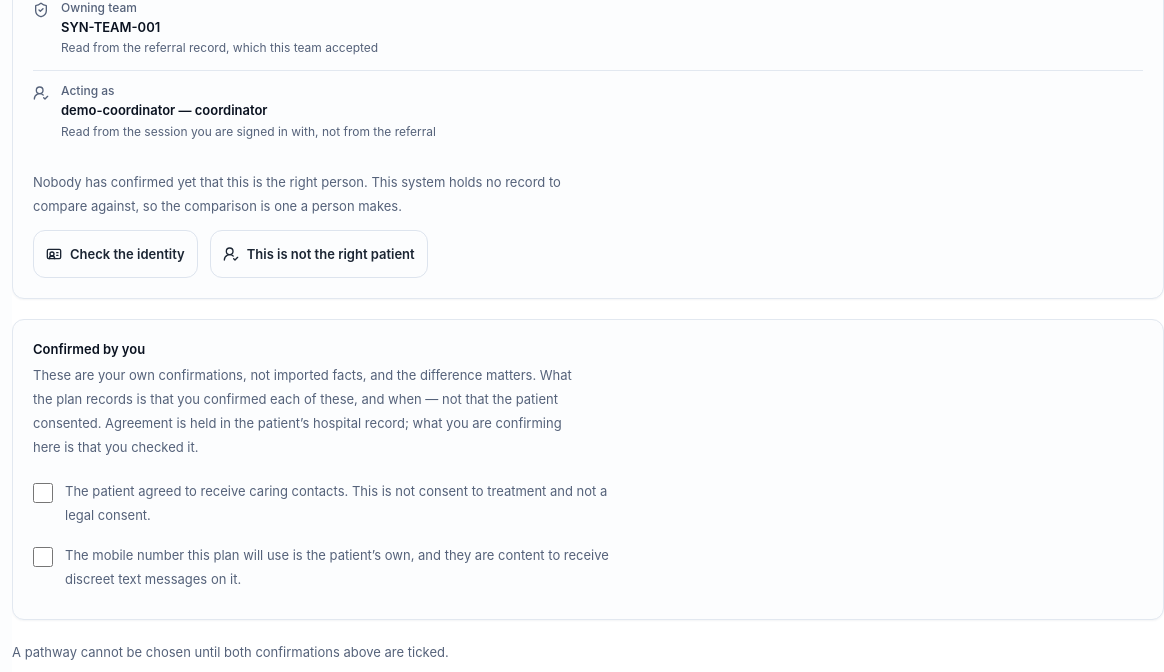
Test: the caring-contacts plan wizard — the draft (Ruling [110]) › still lets a clinician work when the browser refuses to keep it, and says it is not being kept
The image size is (1164, 672).
(page scrolled)
Click the 1st checkbox. click: (43, 492)
box: [33,482,53,502]
(page scrolled)
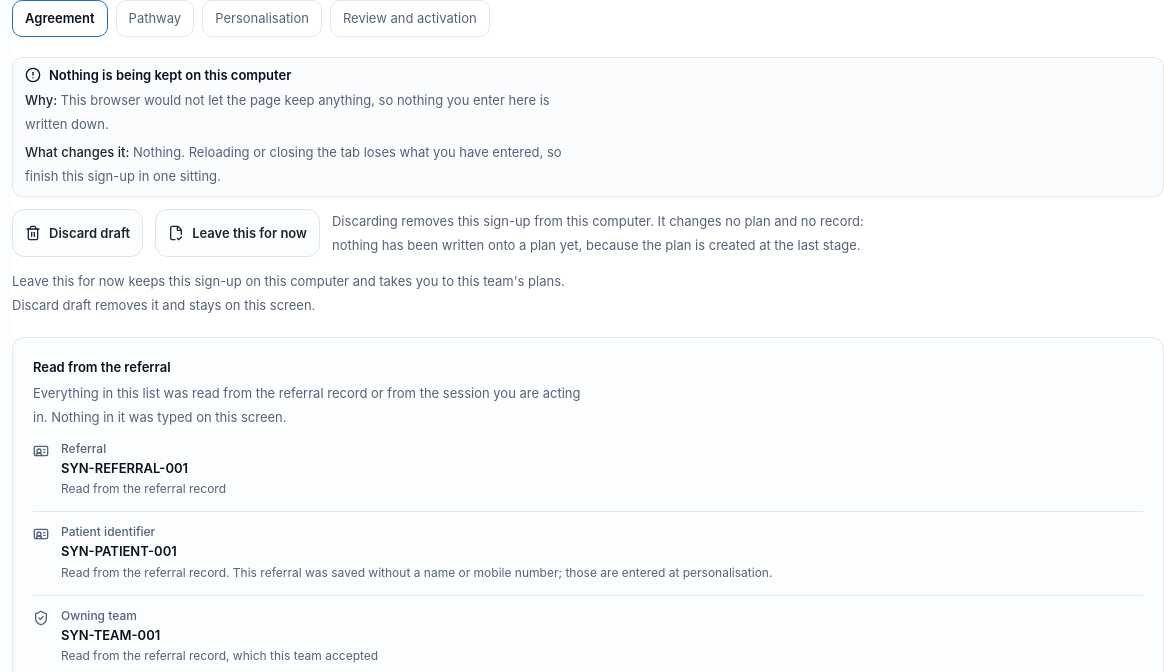
Expected: the element "Nothing is being kept on this computer" shows "finish this sign-up in one sitting", [25,144,562,184]
